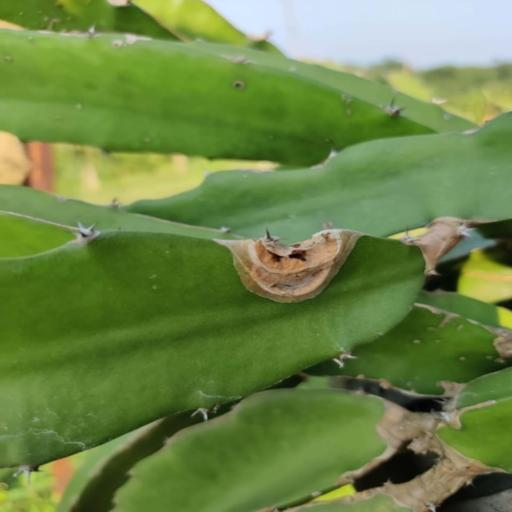stemcanker: (208, 65, 271, 121), (126, 260, 195, 305), (405, 324, 453, 385), (444, 337, 506, 378), (60, 89, 100, 142)
